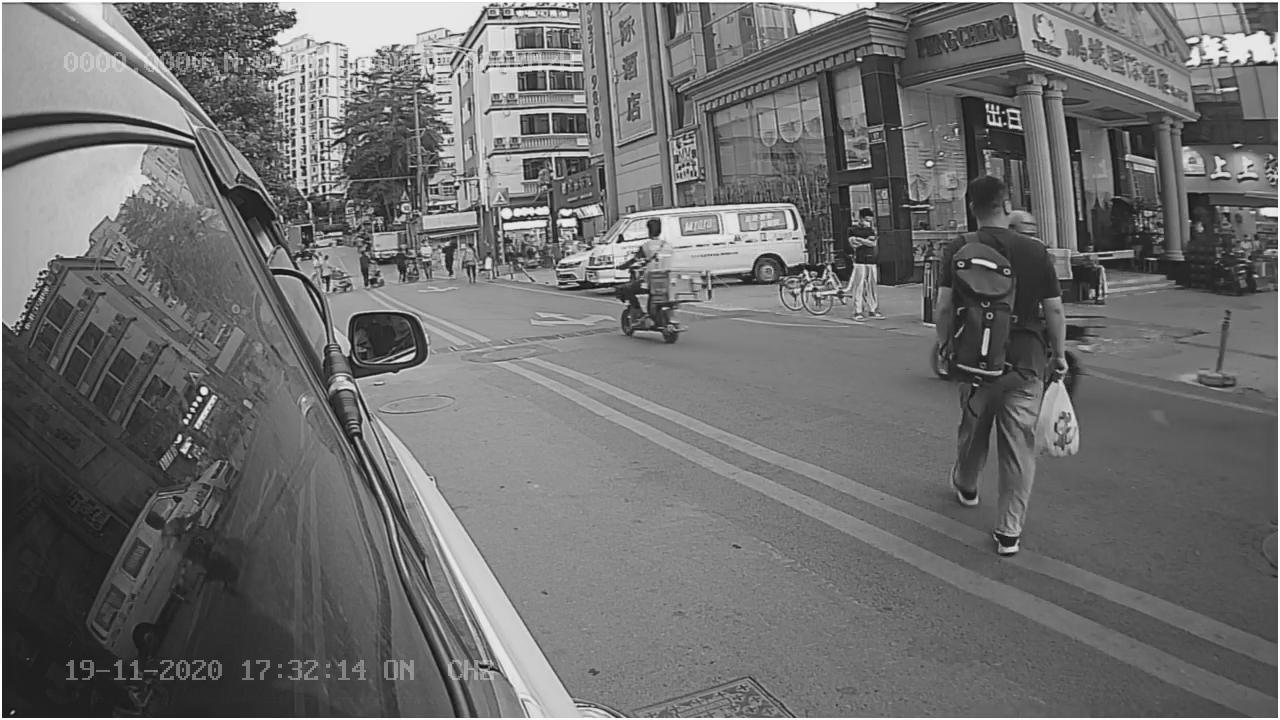person: (936, 171, 1055, 560)
